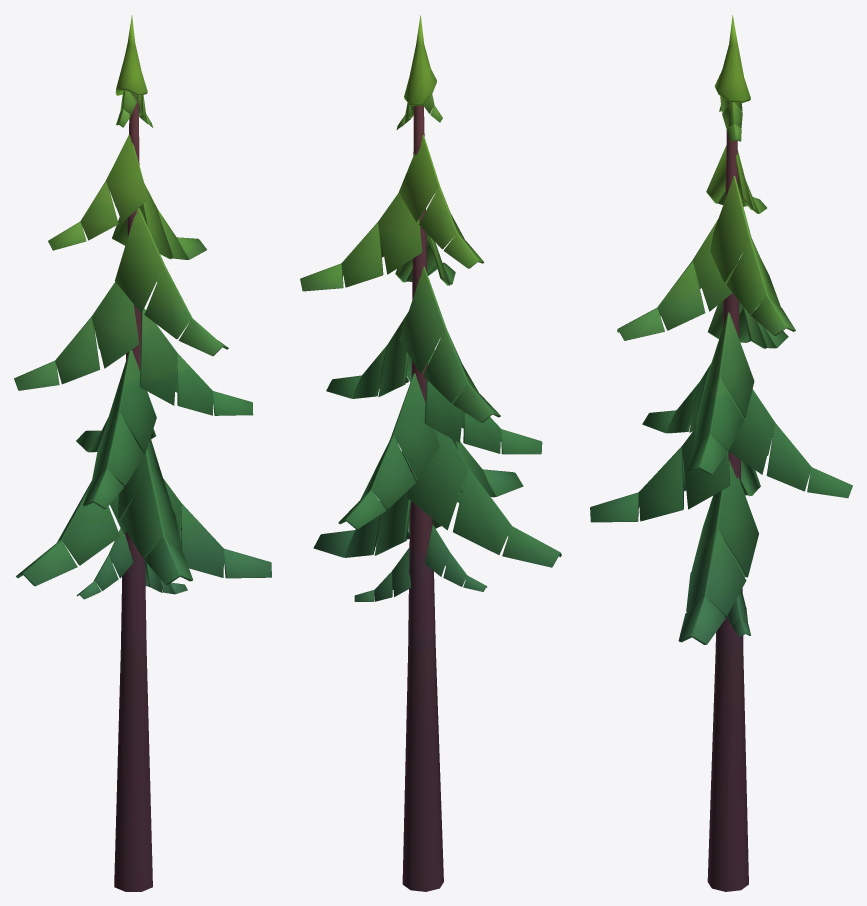
Rendered from Tree_30.fbx.
3 views of the same model, side by side, from view 1: azimuth 30°, elevation 25°; view 2: azimuth 150°, elevation 25°; view 3: azimuth 270°, elevation 25° (orthographic).
Visible parts, largest first — view 1: Tree_30; view 2: Tree_30; view 3: Tree_30.
Boxes of the visible parts, x1=… form: Tree_30: x1=14, y1=15, x2=271, y2=891; Tree_30: x1=300, y1=15, x2=561, y2=891; Tree_30: x1=590, y1=15, x2=852, y2=891.
Size of the model in its own units: 241 by 820 by 225.
